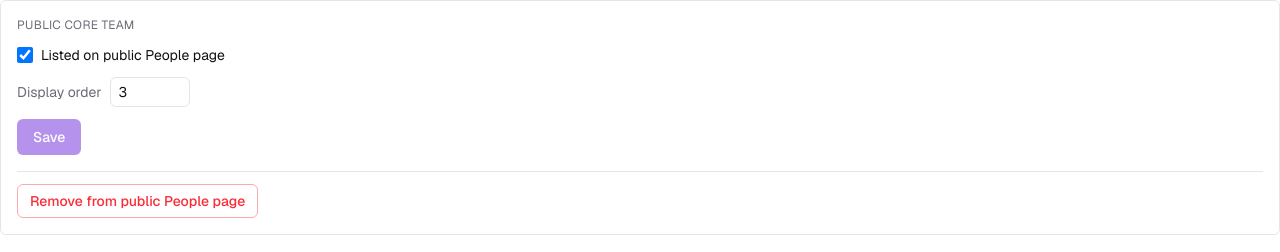
Test: PublicTeamMembership — with public_team.manage › disables the button and shows Saving… while the action is pending
Replace the text in the number field labelled "Display order" with "4" at (150, 92), box [110, 77, 190, 107]
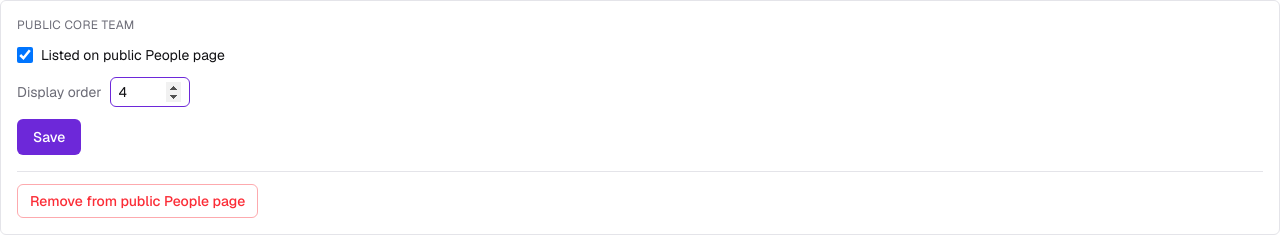
Click the button "Save" at (49, 137), box [17, 119, 81, 155]
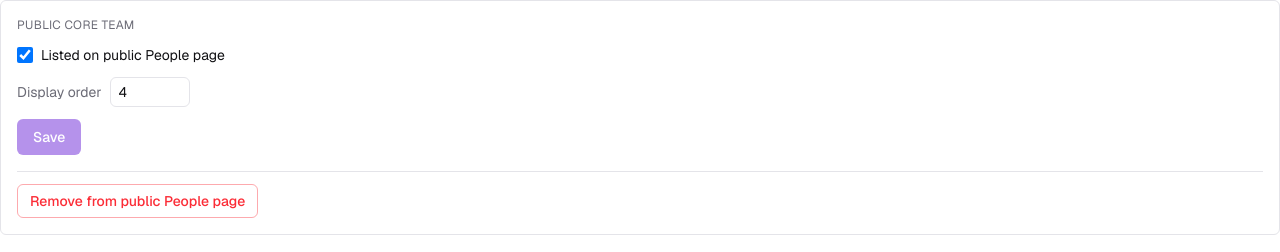
Check: the button named "Saving…" is disabled, box [17, 119, 81, 155]
